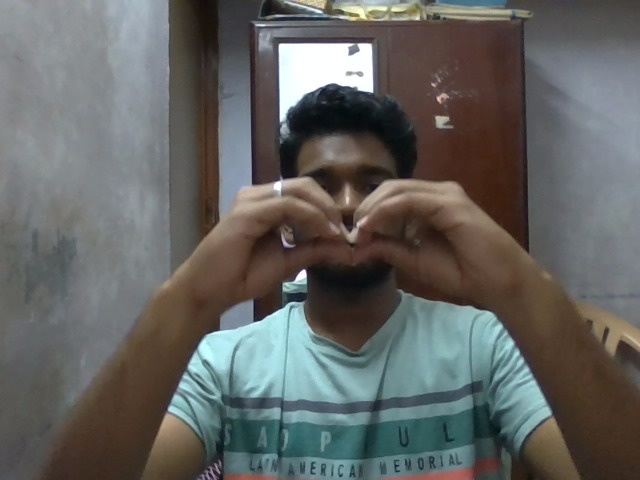B: (157, 169, 546, 341)
